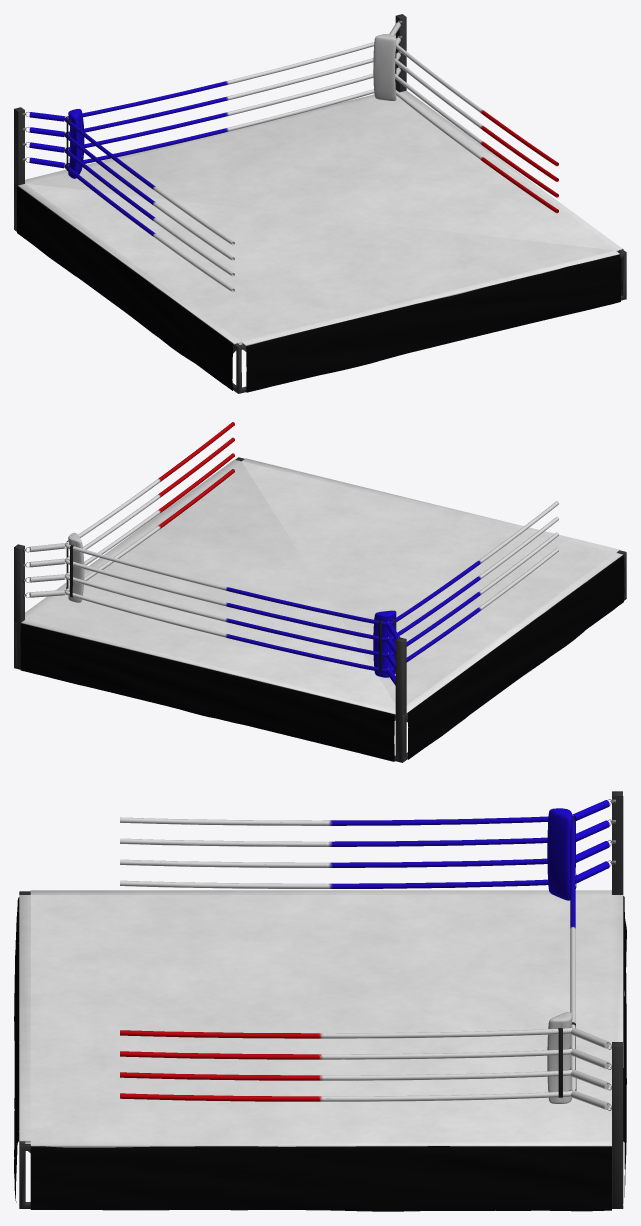
Rendered from a_ring.glb.
3 views of the same model, one above another, from view 1: azimuth 30°, elevation 25°; view 2: azimuth 150°, elevation 25°; view 3: azimuth 270°, elevation 25° (orthographic). The views are drawn at different scales.
Visible parts, largest first — view 1: Boxing Ring_Boxing Ring_0, Boxing Ring_Boxing Ring_0.001; view 2: Boxing Ring_Boxing Ring_0, Boxing Ring_Boxing Ring_0.001; view 3: Boxing Ring_Boxing Ring_0.
Part boxes in pixels (x1,y1,x2,y2): Boxing Ring_Boxing Ring_0: (14,14,626,393); Boxing Ring_Boxing Ring_0.001: (22,20,402,161); Boxing Ring_Boxing Ring_0: (14,422,626,762); Boxing Ring_Boxing Ring_0.001: (23,544,386,625); Boxing Ring_Boxing Ring_0: (14,791,626,1211).
Size of the model in its own units: 7.29 by 2.21 by 7.28.
Materials: 1 (1 with a texture image).
